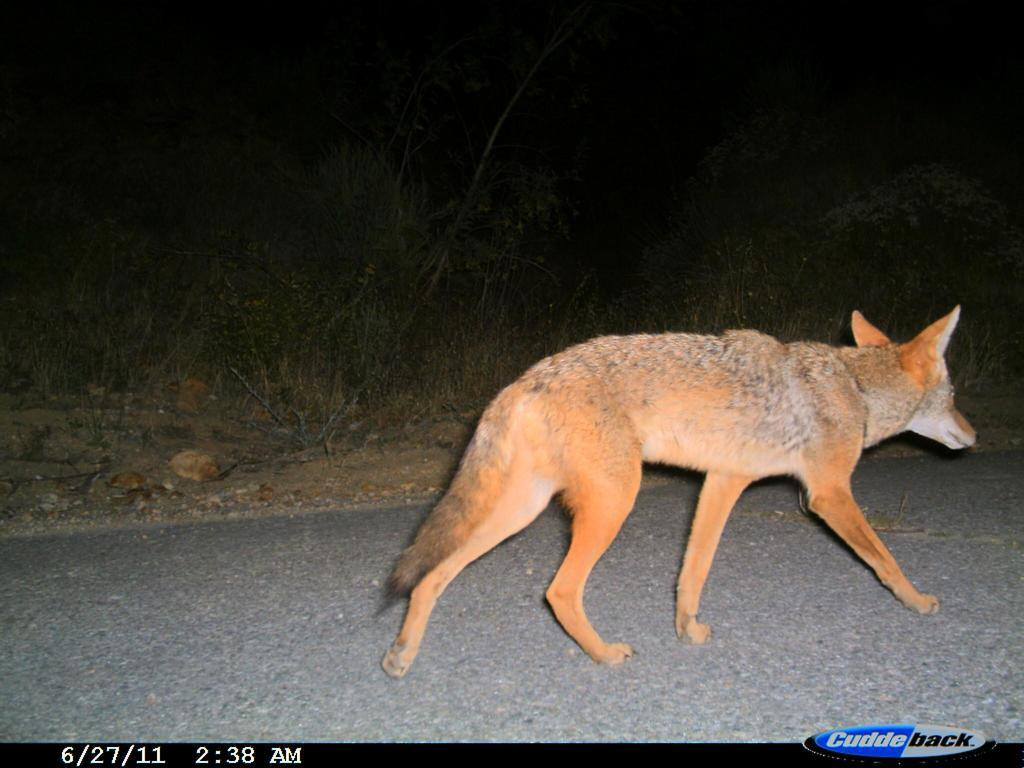coyote: (369, 295, 993, 694)
